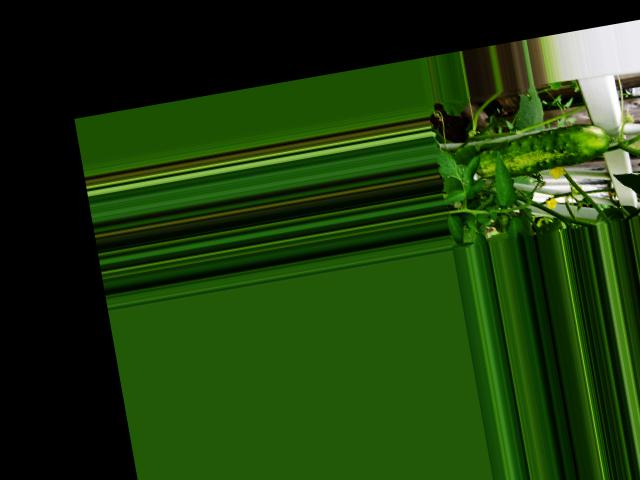cucumber: (472, 119, 613, 181)
